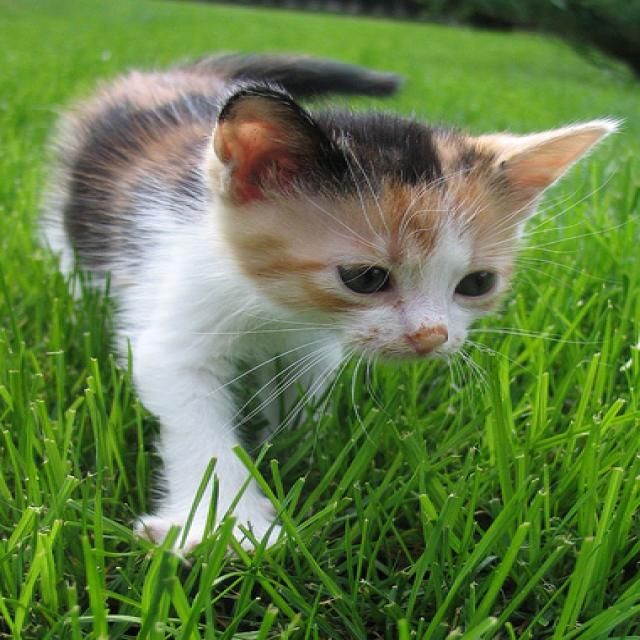left eye: (451, 266, 506, 303)
